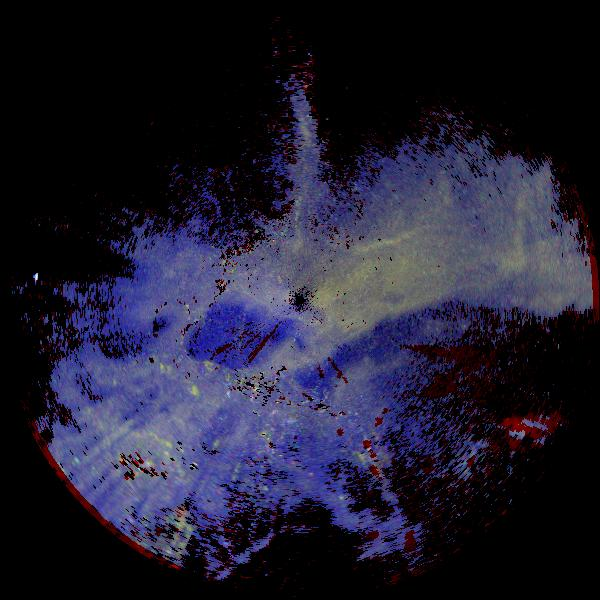roost: (185, 382, 206, 403), (155, 361, 170, 376)
